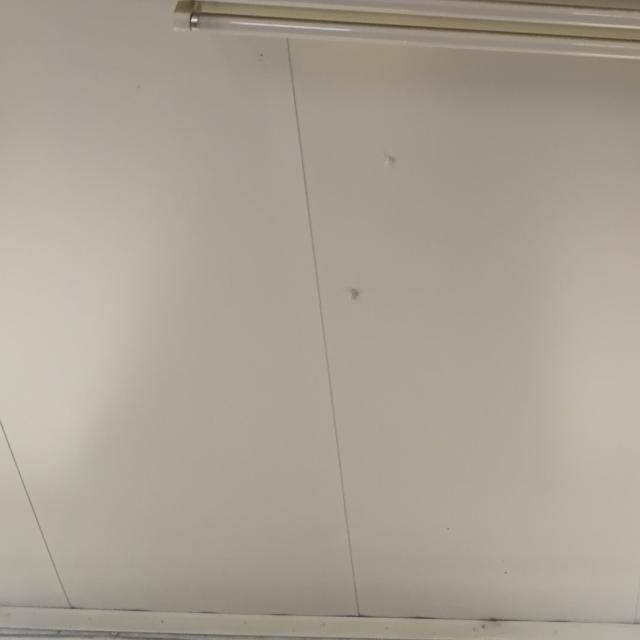fluorescent tube: (156, 0, 640, 134)
